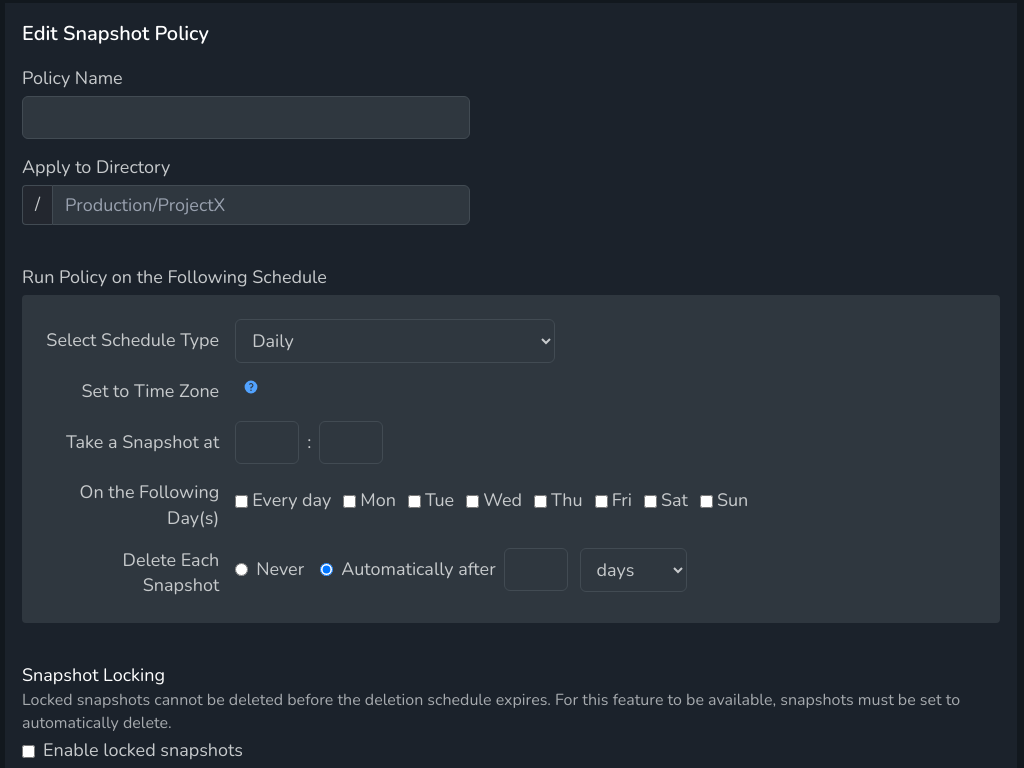
SnapshotPolicyForm › resets form to initial values on cancel
The width and height of the screenshot is (1024, 768).
Type "Something Else" into the field labelled "Policy Name" at (246, 118), box [22,96,470,139]
(page scrolled)
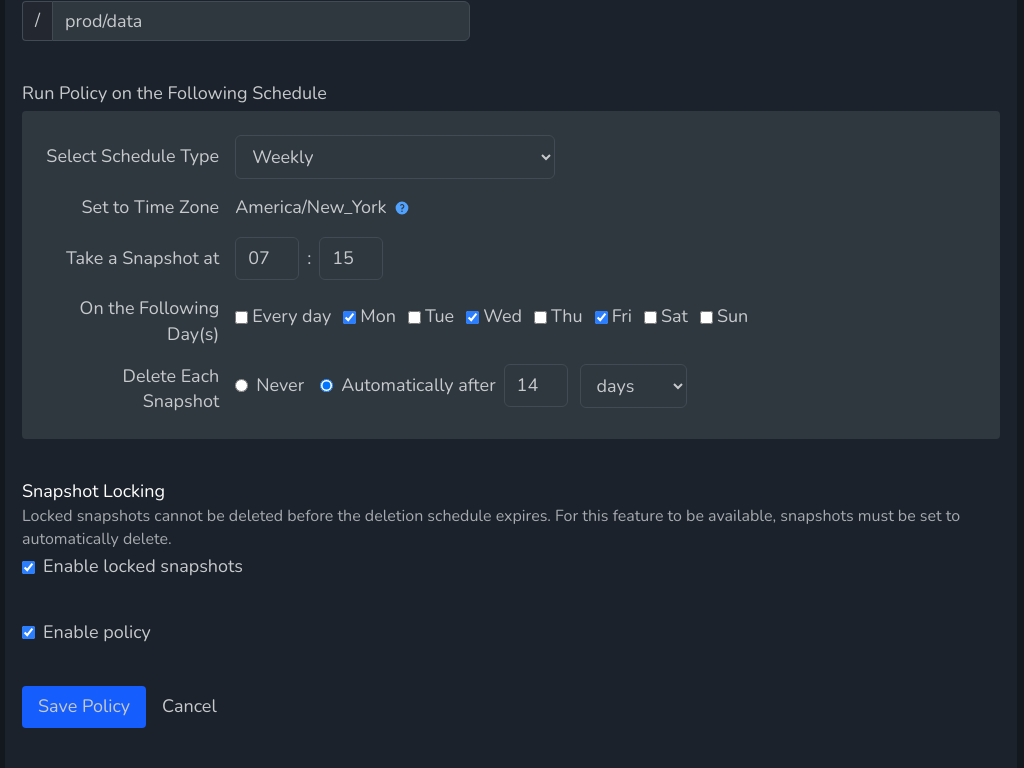
Click the button "Cancel" at (189, 707), box [162,686,217,728]
(page scrolled)
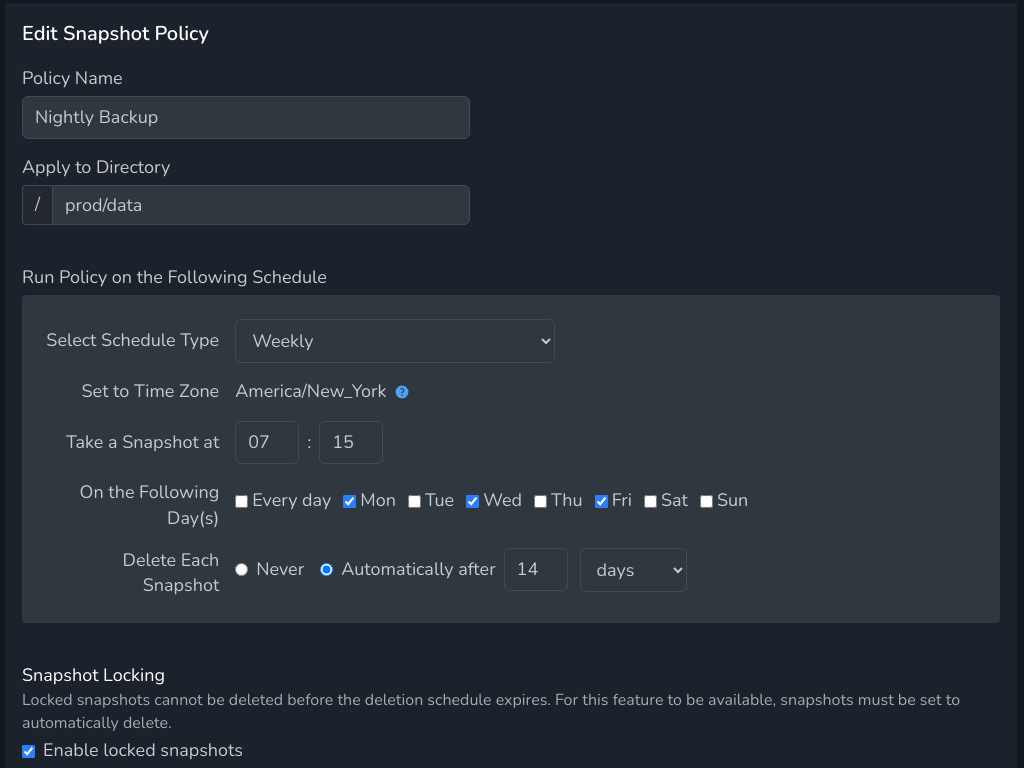
Expected: the field showing "Nightly Backup" is shown, [22,96,470,139]
